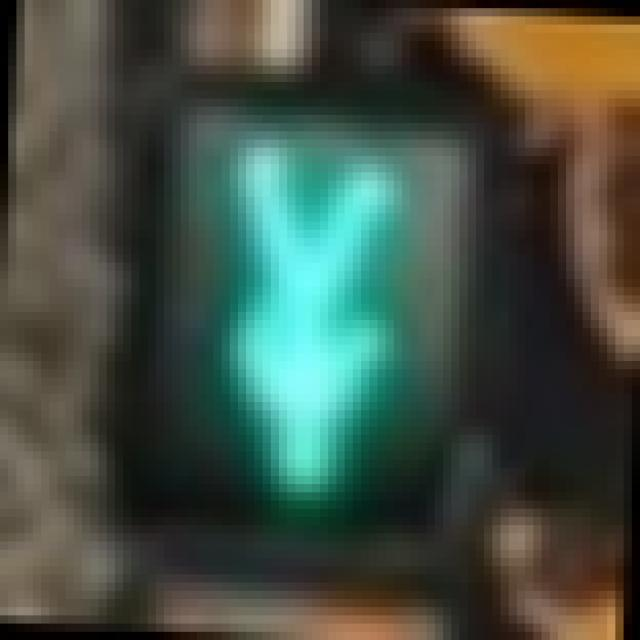geen-crossing: (148, 90, 468, 534)
